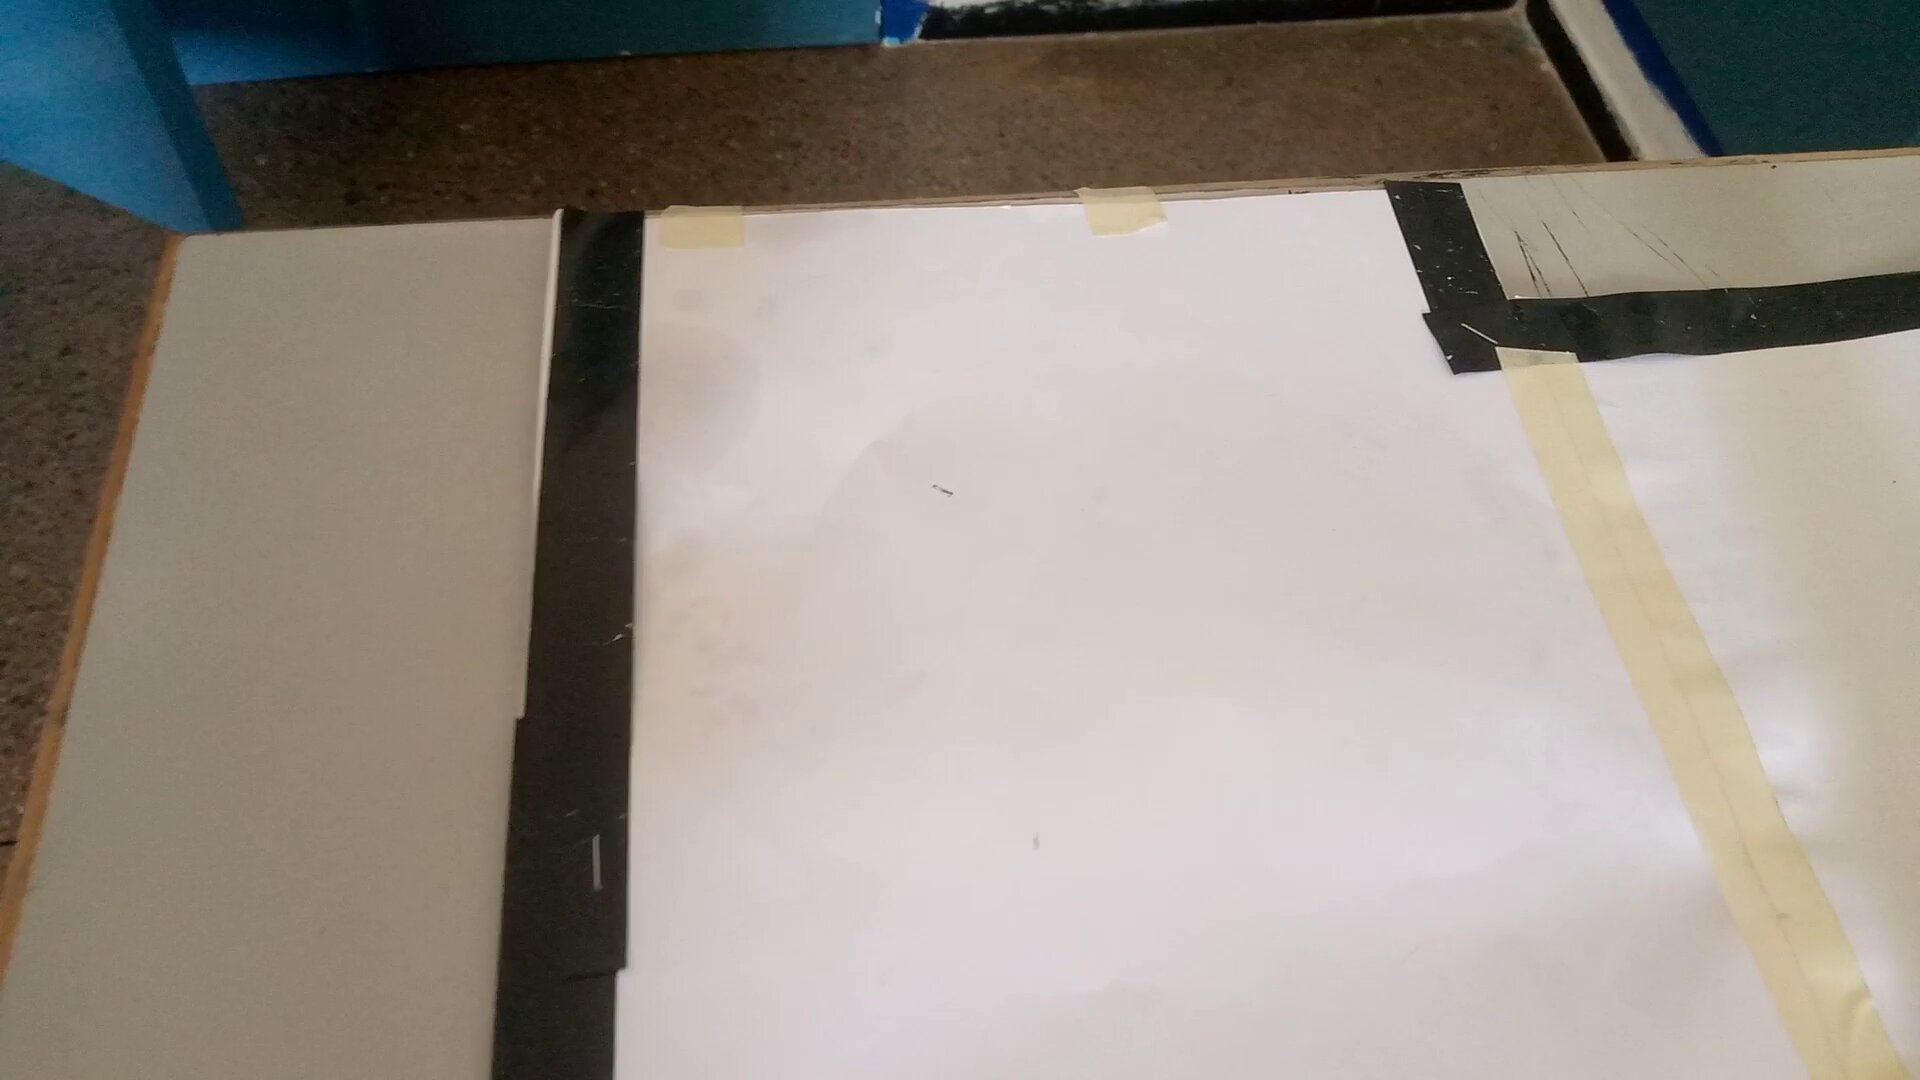right: (530, 214, 1920, 1080)
